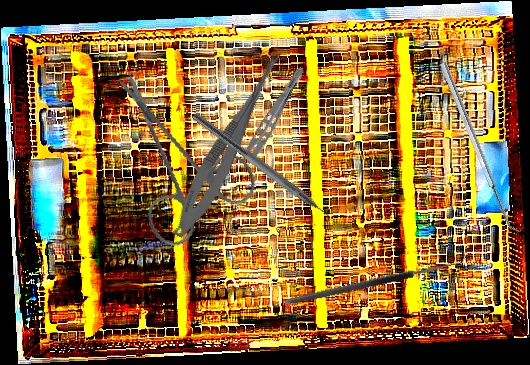Chopper: (183, 110, 345, 237)
Hook Surgical: (282, 248, 468, 307)
Iris Scissors: (84, 69, 275, 262)
Micro Scissor: (166, 38, 291, 244)
Spatula Surgical: (439, 59, 523, 236)
Tissue Forceps: (231, 61, 308, 175)
